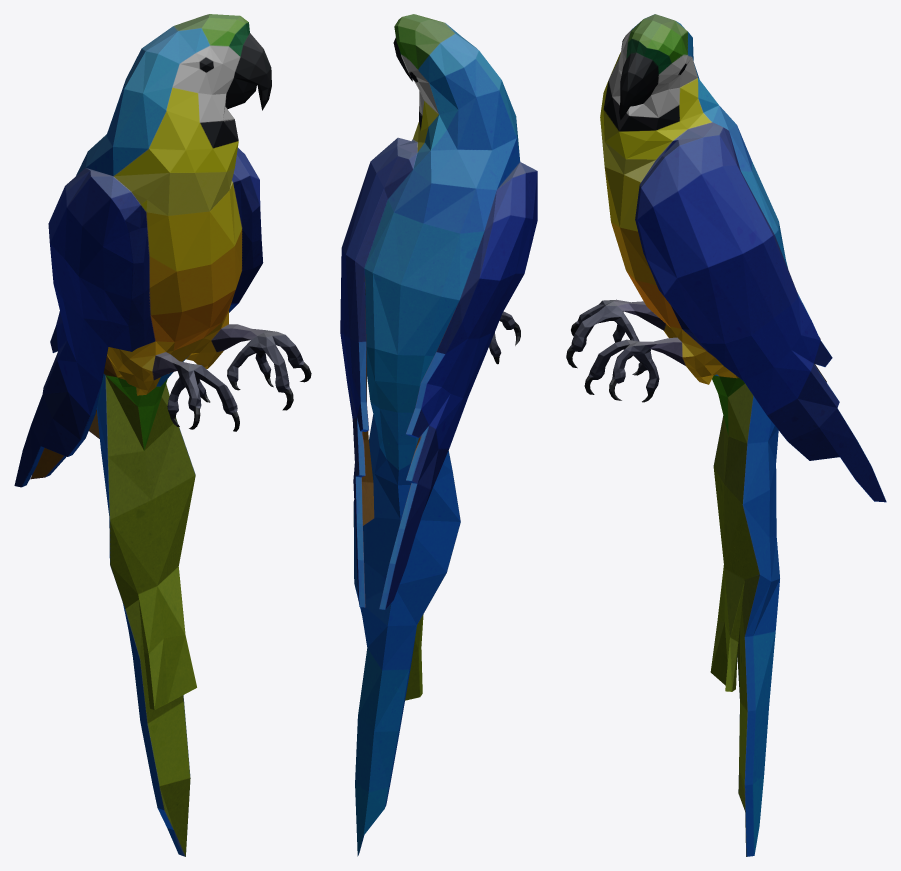
The model's file is macaw.glb.
3 renders of one model, left to right at view 1: azimuth 30°, elevation 25°; view 2: azimuth 150°, elevation 25°; view 3: azimuth 270°, elevation 25°, orthographic. The views are drawn at different scales.
Visible parts, largest first — view 1: blue_yellow_macaw.1; view 2: blue_yellow_macaw.1; view 3: blue_yellow_macaw.1.
Boxes of the visible parts, left/top/right/bottom form: blue_yellow_macaw.1: left=14, top=14, right=311, bottom=856; blue_yellow_macaw.1: left=340, top=14, right=537, bottom=856; blue_yellow_macaw.1: left=566, top=14, right=886, bottom=856.
Bounding box in the file's own units: 0.02 × 0.0827 × 0.0292.
1 material, 1 textured.
